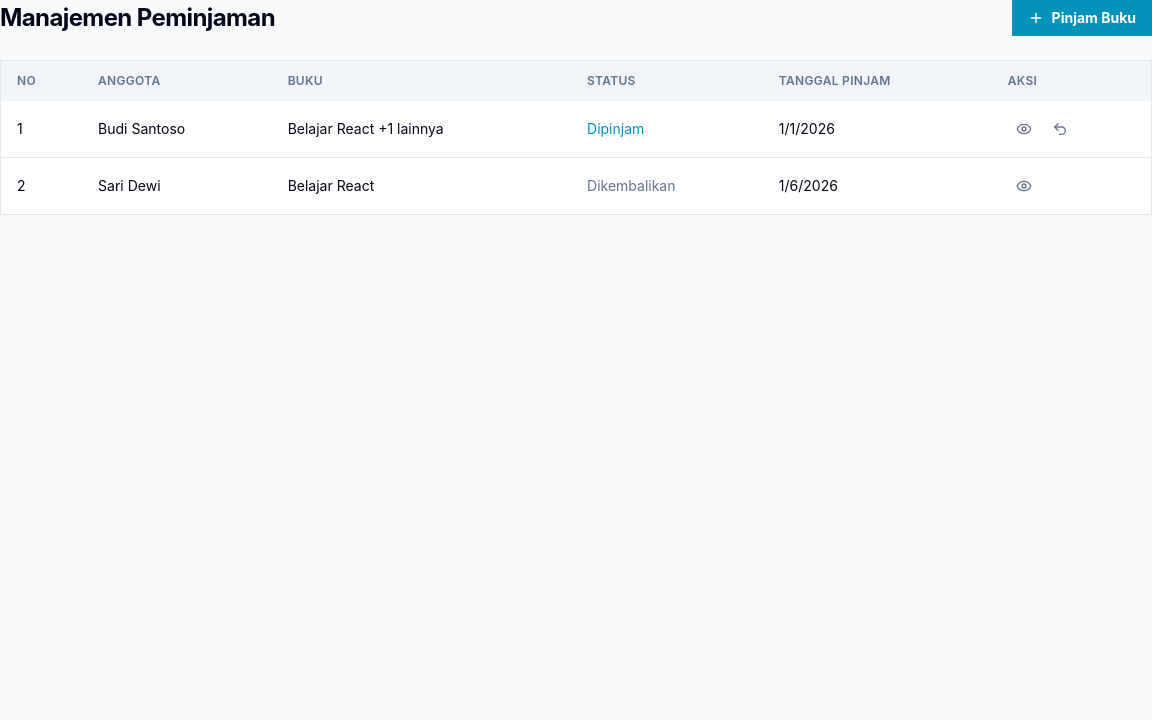
Test case: LoansPage › shows all fields and audit info in the detail modal
expect the text "Belajar React +1 lainnya" is shown: met, box [272,101,571,158]
Step 1. Click the button named "Lihat detail" in the row of "Budi Santoso" → click(1024, 129), box [1008,113,1040,145]
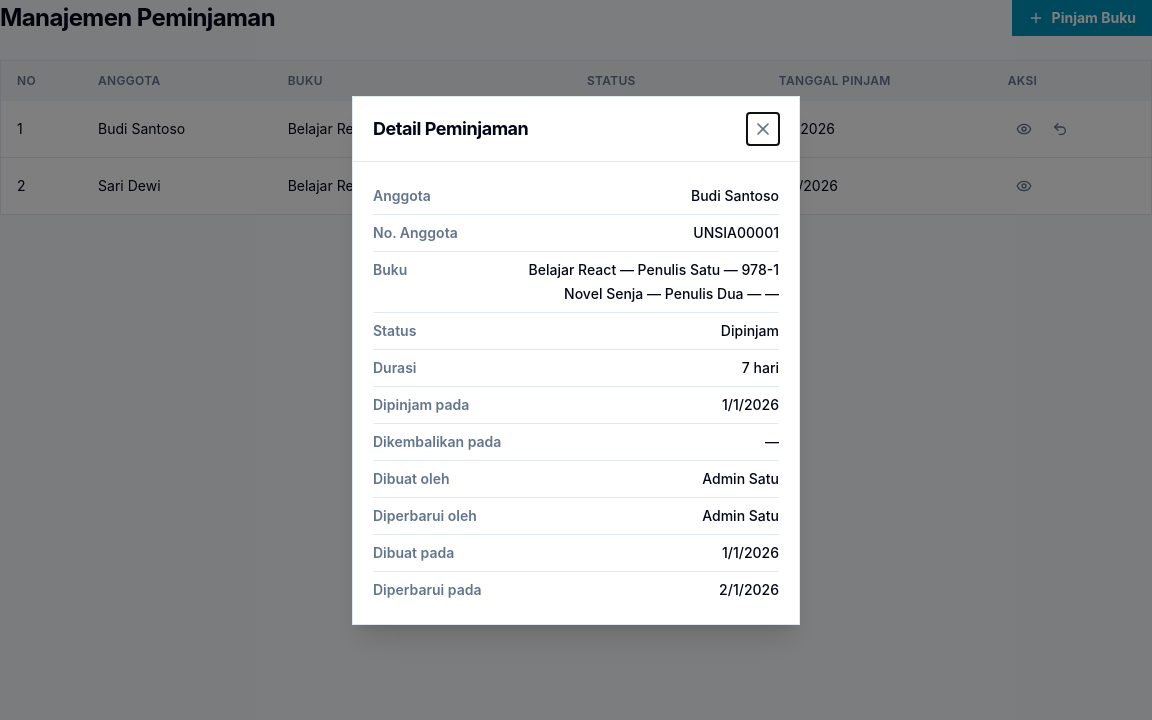
expect the text "Budi Santoso" is shown: met, box [691,186,779,206]
expect the text "UNSIA00001" is shown: met, box [693,222,779,242]
expect the list item "Belajar React — Penulis Satu — 978-1" is shown: met, box [529,260,779,280]
